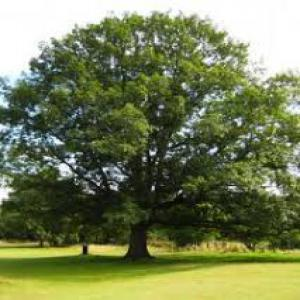Tree: (13, 9, 274, 261)
